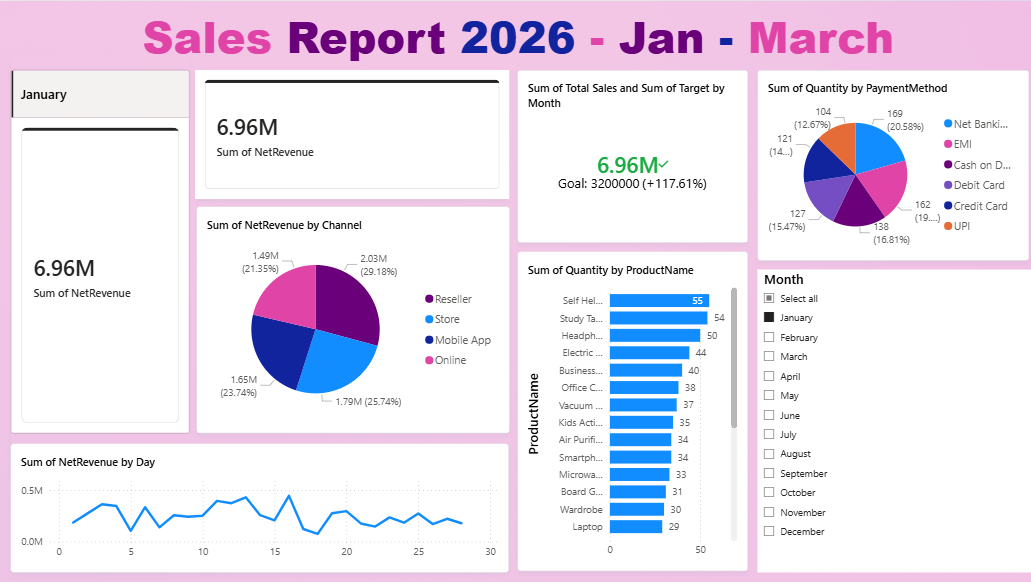

The page's visual inventory and layout, read from the dashboard file:
{"tool":"powerbi","page":{"name":"Page 1","canvas":[1280,720],"ordinal":0},"visuals":[{"type":"textbox","box":[0,0,1279.6,85.2],"z":0},{"type":"cardVisual","fields":{"Data":["Sum(Sales_Jan.NetRevenue)"]},"box":[240.2,84.3,388.1,159.1],"z":1000},{"type":"cardVisual","fields":{"Rows":["Sales_Jan.OrderDate.Variation.Date Hierarchy.Month"],"Data":["Sum(Sales_Jan.NetRevenue)"]},"box":[12.3,64.9,221.1,489.5],"z":2000},{"type":"pieChart","fields":{"Y":["Sum(Sales_Jan.NetRevenue)"],"Category":["Sales_Jan.Channel"]},"box":[241.8,254.5,386.5,279.9],"z":3000},{"type":"lineChart","fields":{"Y":["Sum(Sales_Jan.NetRevenue)"],"Category":["Sales_Jan.OrderDate.Variation.Date Hierarchy.Day"]},"box":[12.7,547.2,615.6,159.1],"z":4000},{"type":"barChart","fields":{"Y":["Sum(Sales_Jan.Quantity)"],"Category":["Sales_Jan.ProductName"]},"box":[639.4,310.2,284.7,394.5],"z":5000},{"type":"pieChart","fields":{"Category":["Sales_Jan.PaymentMethod"],"Y":["Sum(Sales_Jan.Quantity)"]},"box":[935.3,84.3,335.6,235.4],"z":6000},{"type":"slicer","fields":{"Values":["Sales_Jan.OrderDate.Variation.Date Hierarchy.Month"]},"box":[935.3,330.8,338.8,373.8],"z":7000},{"type":"kpi","fields":{"Indicator":["Sum(Sales_Jan.Total Sales)"],"Goal":["Sum(Sales_Jan.Target)"],"TrendLine":["Sales_Jan.OrderDate.Variation.Date Hierarchy.Month"]},"box":[639.4,84.3,284.7,213.1],"z":8000}]}

Visuals, with their boxes in screenshot pixels (x1, y1, x2, y2), scaled from the page's 1280x720 canvas onto the 1031x582 screenshot:
textbox: (0,0,1030,69)
cardVisual - Sum(Sales_Jan.NetRevenue): (193,68,506,197)
cardVisual - Sales_Jan.OrderDate.Variation.Date Hierarchy.Month x Sum(Sales_Jan.NetRevenue): (10,52,188,448)
pieChart - Sum(Sales_Jan.NetRevenue) x Sales_Jan.Channel: (195,206,506,432)
lineChart - Sum(Sales_Jan.NetRevenue) x Sales_Jan.OrderDate.Variation.Date Hierarchy.Day: (10,442,506,571)
barChart - Sum(Sales_Jan.Quantity) x Sales_Jan.ProductName: (515,251,744,570)
pieChart - Sales_Jan.PaymentMethod x Sum(Sales_Jan.Quantity): (753,68,1024,258)
slicer - Sales_Jan.OrderDate.Variation.Date Hierarchy.Month: (753,267,1026,570)
kpi - Sum(Sales_Jan.Total Sales) x Sum(Sales_Jan.Target): (515,68,744,240)
